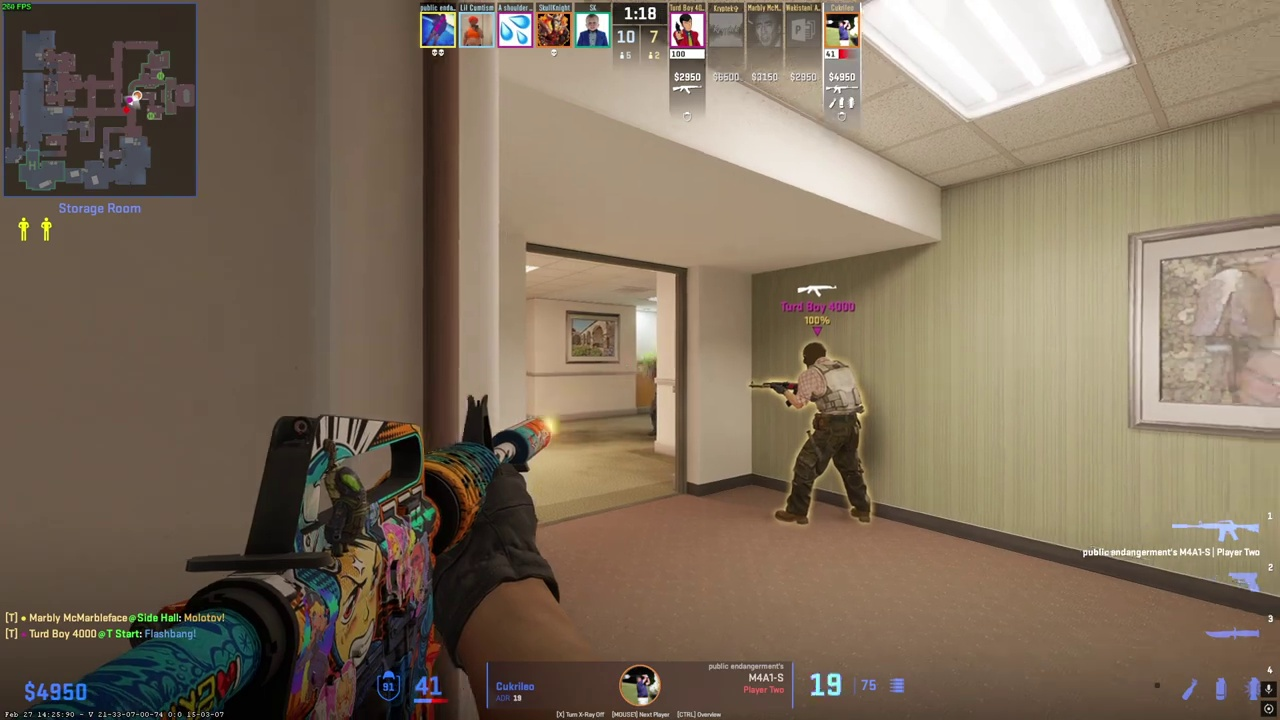Terrorist: (775, 342, 870, 524)
